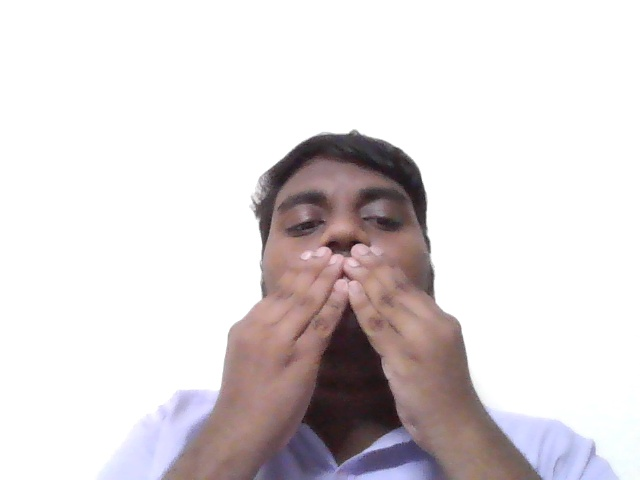Thank you: (189, 232, 503, 423)
